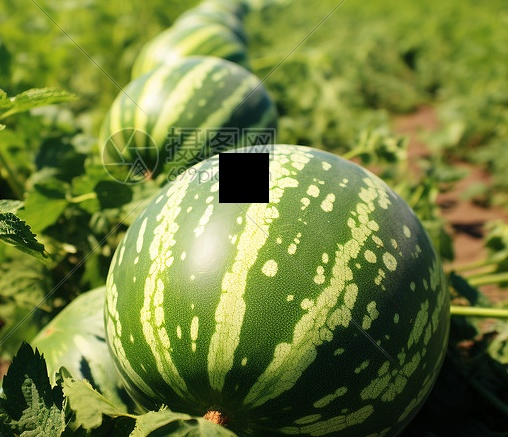watermelon: (101, 142, 442, 435), (103, 54, 275, 186)
